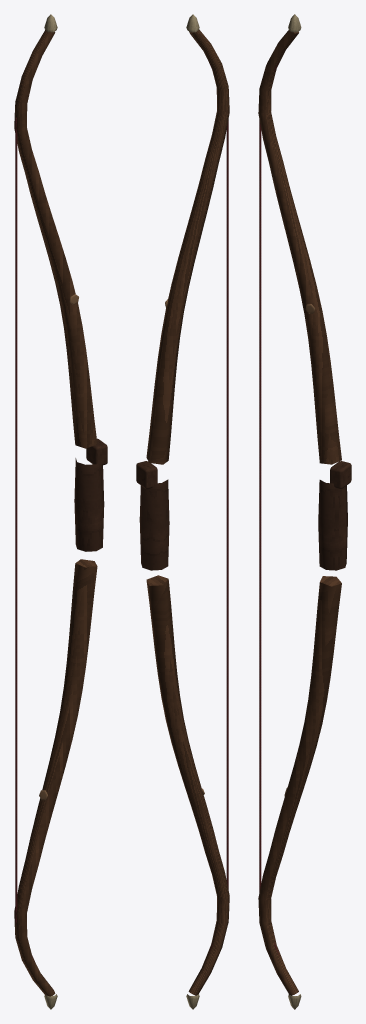
Rendered from recurve-bow.lod2.glb.
3 renders of one model, left to right at view 1: azimuth 30°, elevation 25°; view 2: azimuth 210°, elevation 25°; view 3: azimuth 330°, elevation 25°, orthographic.
Parts seen in each view (by area): view 1: wood / oiled hardwood, leather / oiled leather wrap, cord / waxed silk cord wrap, horn / polished horn and bone; view 2: wood / oiled hardwood, leather / oiled leather wrap, cord / waxed silk cord wrap, horn / polished horn and bone; view 3: wood / oiled hardwood, leather / oiled leather wrap, cord / waxed silk cord wrap, horn / polished horn and bone.
Part boxes in pixels (x1,y1,x2,y2): wood / oiled hardwood: [14, 30, 97, 996]; leather / oiled leather wrap: [74, 438, 107, 551]; cord / waxed silk cord wrap: [15, 117, 35, 962]; horn / polished horn and bone: [44, 14, 57, 1009]; wood / oiled hardwood: [146, 29, 229, 995]; leather / oiled leather wrap: [136, 461, 169, 570]; cord / waxed silk cord wrap: [208, 61, 228, 955]; horn / polished horn and bone: [186, 14, 199, 1009]; wood / oiled hardwood: [258, 30, 341, 995]; leather / oiled leather wrap: [318, 461, 351, 570]; cord / waxed silk cord wrap: [259, 60, 279, 956]; horn / polished horn and bone: [288, 14, 301, 1009].
Bounding box in the file's own units: 0.1378 × 1.49 × 0.0418.
5 materials, 4 textured.
